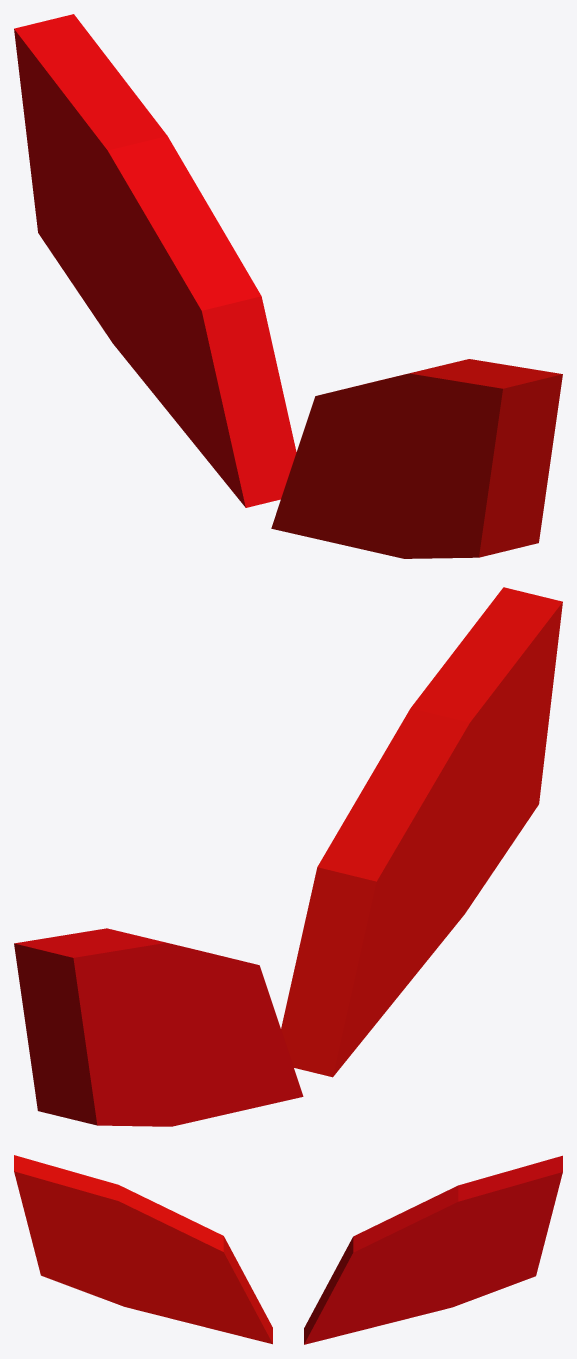
File: zoio.fbx
3 views of the same model, one above another, from view 1: azimuth 30°, elevation 25°; view 2: azimuth 150°, elevation 25°; view 3: azimuth 270°, elevation 25° (orthographic). The views are drawn at different scales.
Parts seen in each view (by area): view 1: Cube.001, Cube; view 2: Cube, Cube.001; view 3: Cube, Cube.001.
Part boxes in pixels (<box>): Cube.001: <box>14,14,296,507</box>; Cube: <box>271,359,562,558</box>; Cube: <box>281,587,562,1077</box>; Cube.001: <box>14,928,303,1126</box>; Cube: <box>14,1155,272,1344</box>; Cube.001: <box>304,1155,562,1344</box>.
Size of the model in its own units: 46.64 by 222 by 639.
